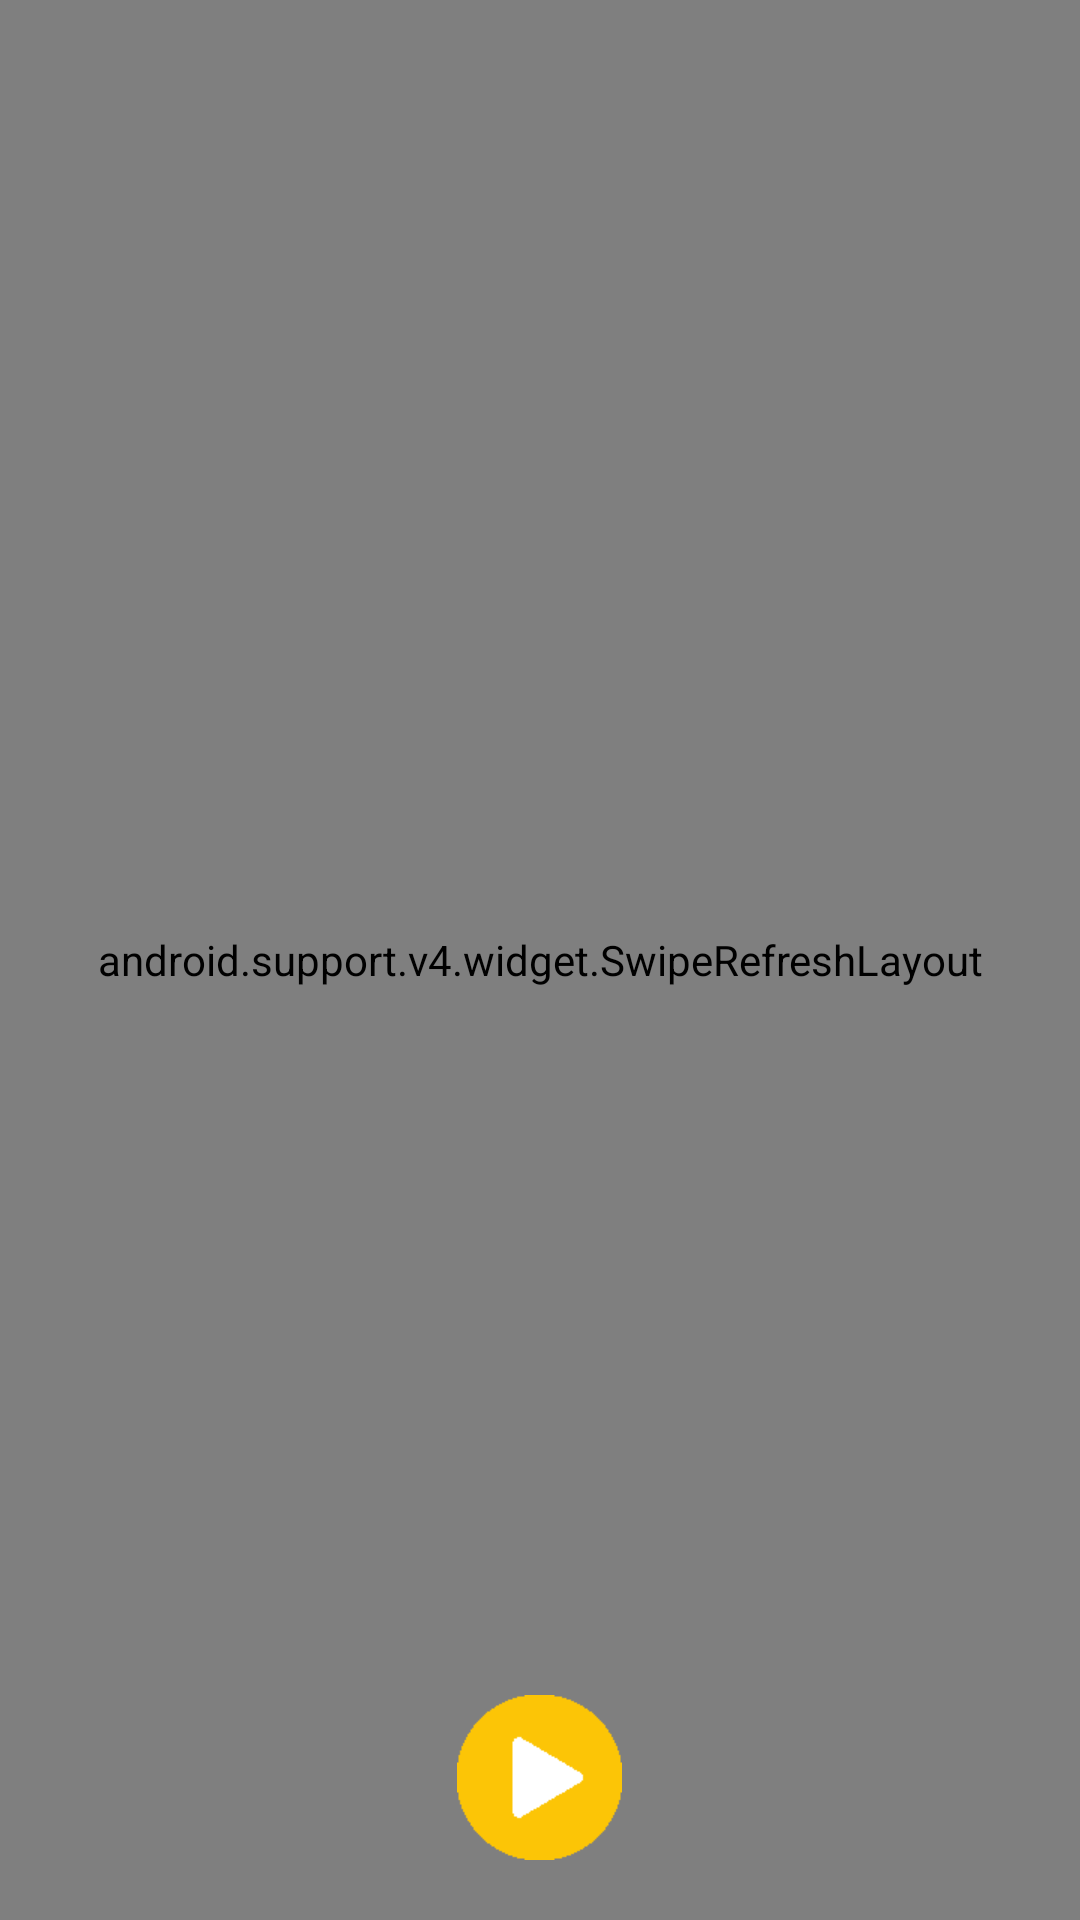

Screen size 1080*1920. Icon name, then its box in pixels as (x1, y1, x2, y2):
play: (457, 1695, 622, 1860)
